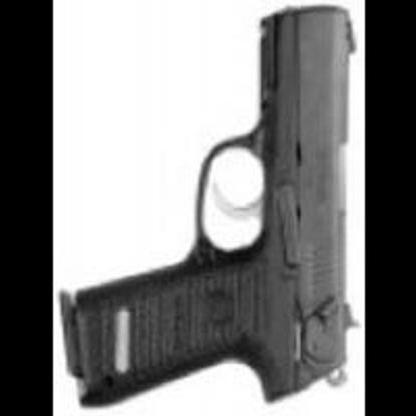weapon: (59, 8, 357, 413)
